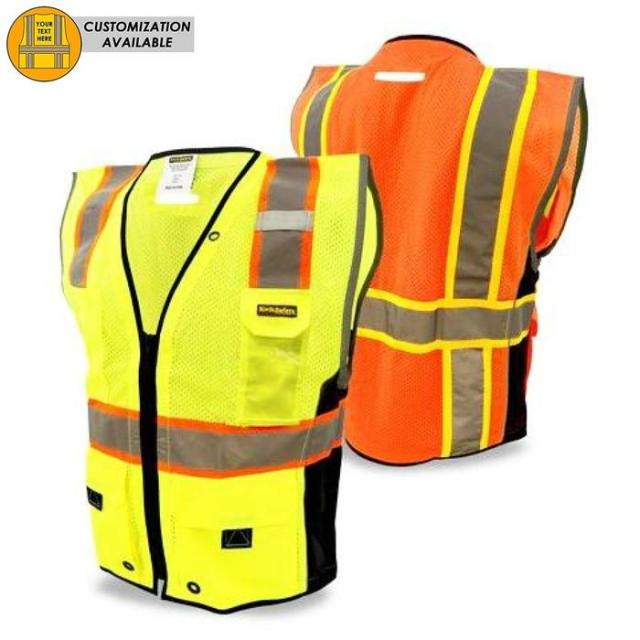Reflective-Jacket: (44, 134, 388, 616), (277, 36, 608, 469)
